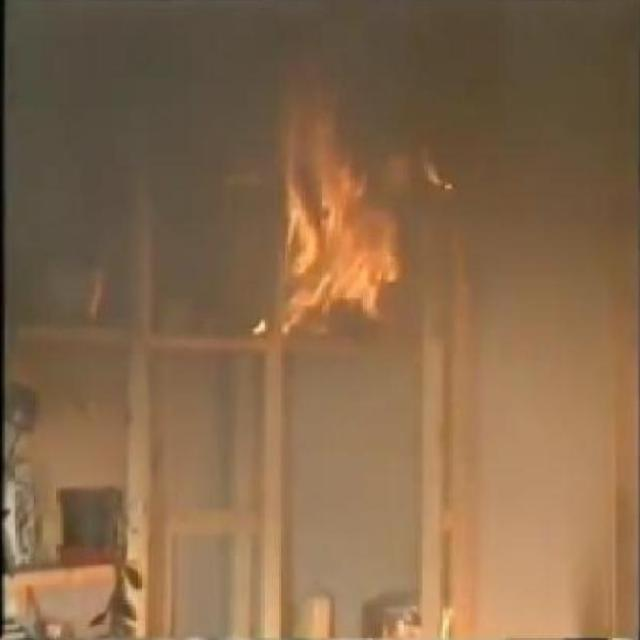smoke: (278, 68, 407, 346)
